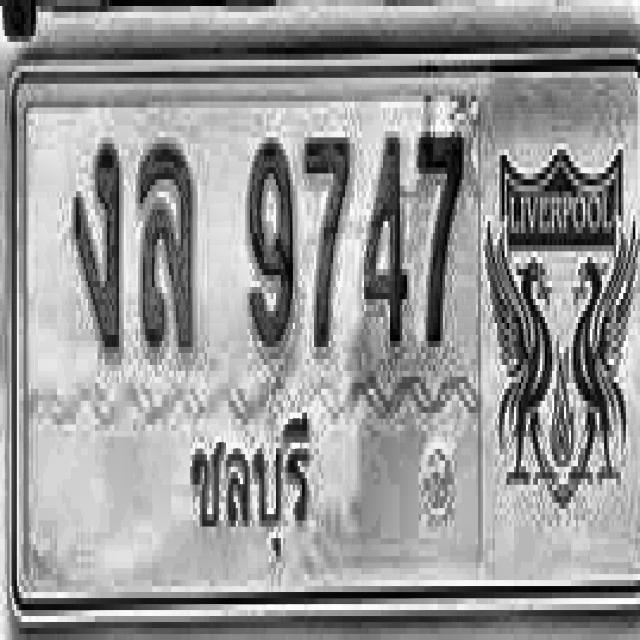license-plate: (11, 45, 640, 640)
